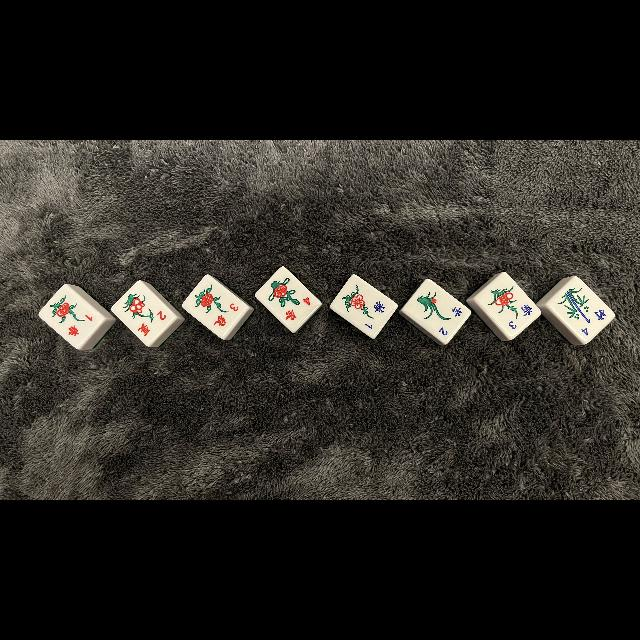f1: (360, 300, 392, 330)
f2: (432, 306, 466, 336)
f3: (503, 301, 535, 333)
f4: (576, 307, 610, 339)
s1: (63, 311, 97, 341)
s2: (137, 307, 167, 337)
s3: (209, 302, 241, 331)
s4: (280, 294, 314, 324)
